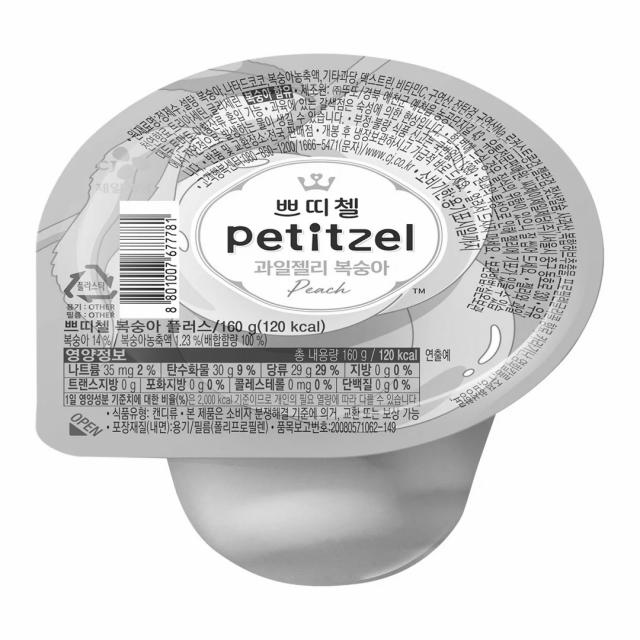Nutrition Label: (58, 343, 425, 413)
